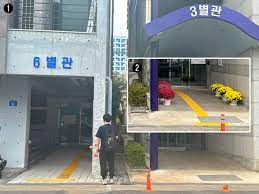guide_blocks: (23, 177, 70, 182), (196, 121, 229, 126)
